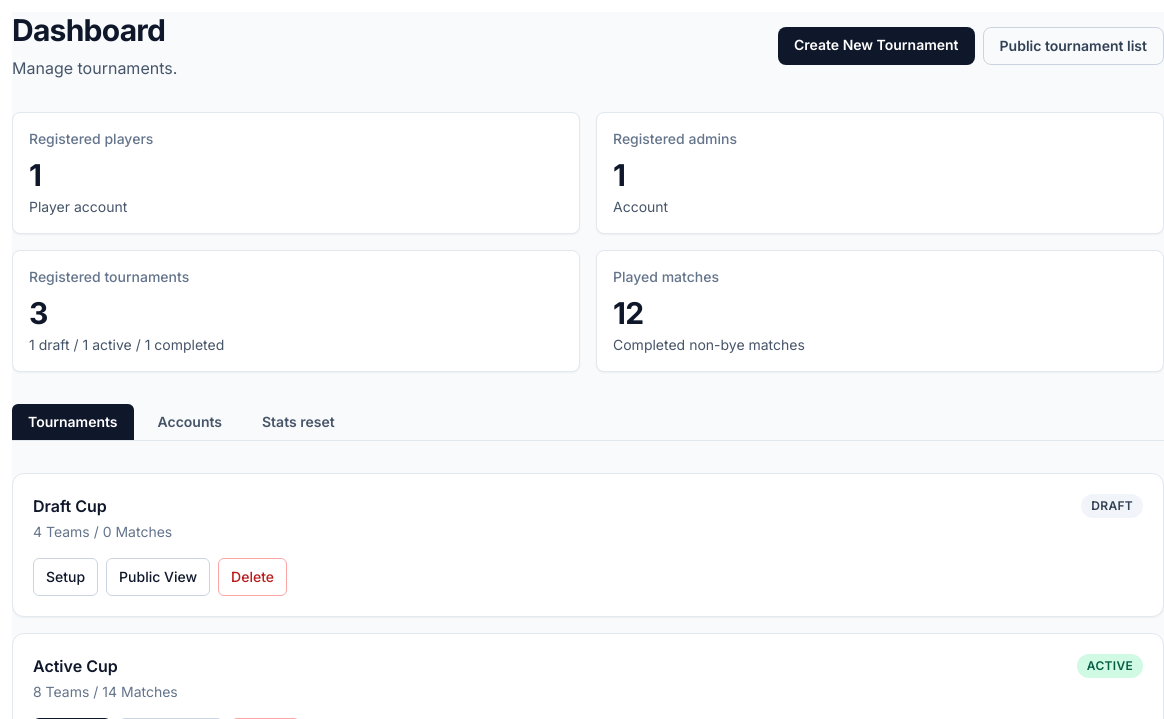
Test: AdminDashboard › shows the stats reset tab for admins
Expected: the tab "Tournaments" is shown, [12, 404, 134, 440]
Expected: the tab "Accounts" is shown, [142, 404, 238, 440]
Click the tab "Stats reset": (298, 422) [246, 404, 351, 440]
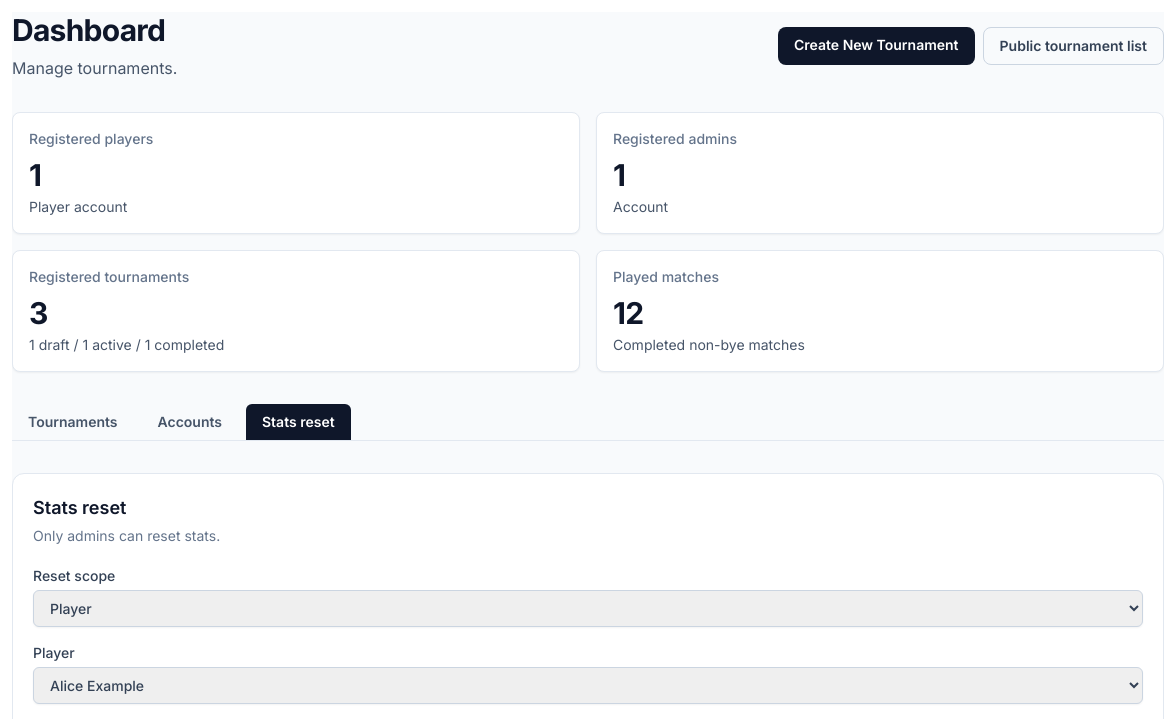
Now the heading "Stats reset" is shown, box [33, 497, 126, 518]
